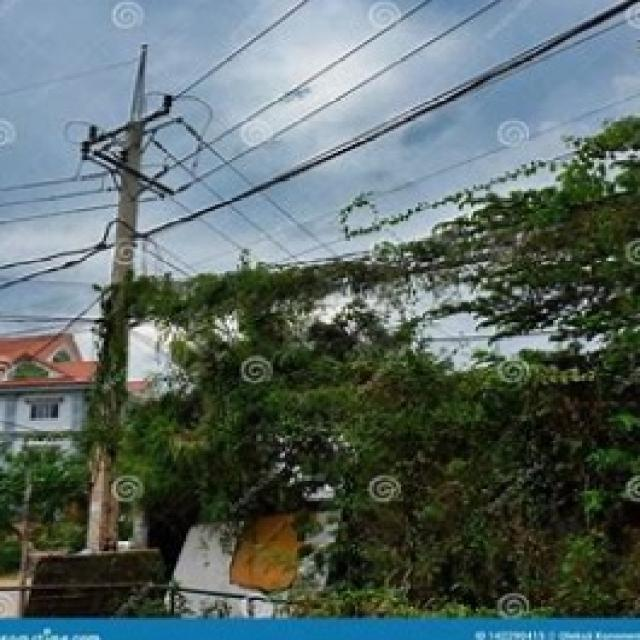critical vegetation: (120, 224, 618, 374)
